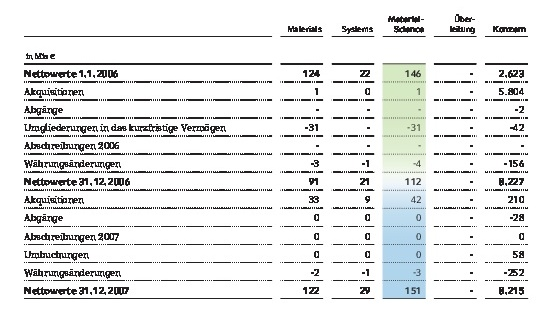table: (0, 0, 543, 316)
